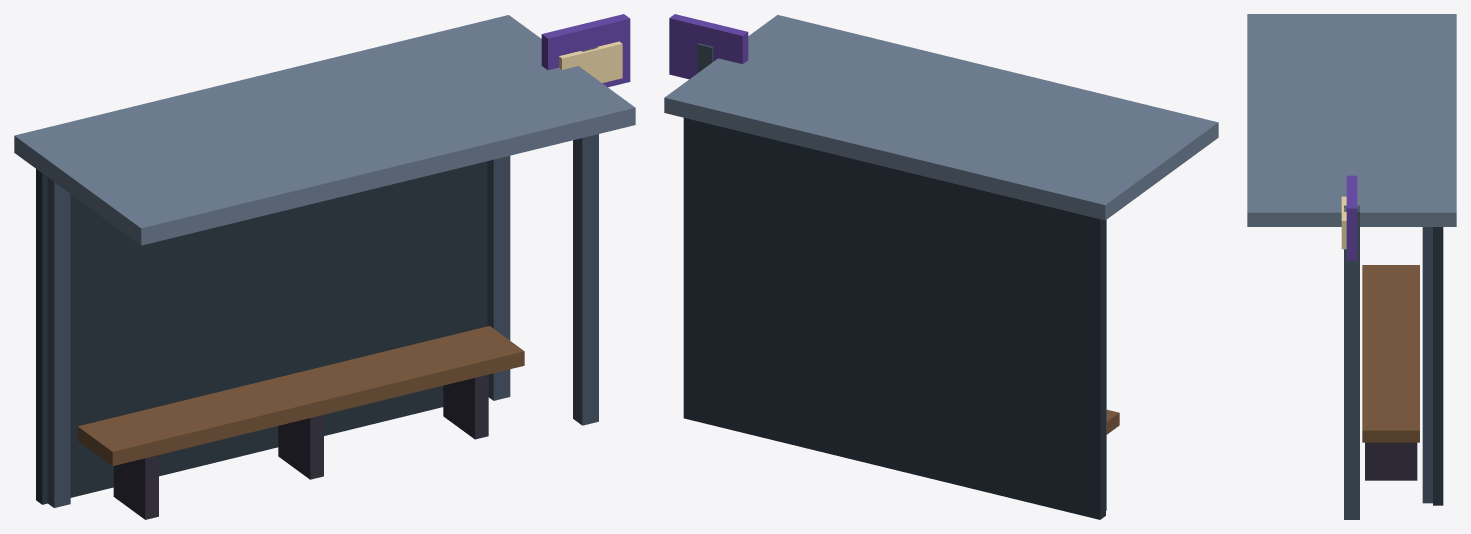
File: bus_stop.obj
The picture shows the model from 3 angles, left to right: view 1: azimuth 30°, elevation 25°; view 2: azimuth 150°, elevation 25°; view 3: azimuth 270°, elevation 25°; orthographic projection. The views are drawn at different scales.
Visible parts, largest first — view 1: bus_stop; view 2: bus_stop; view 3: bus_stop.
Part boxes in pixels (x1,y1,x2,y2): bus_stop: [14, 14, 635, 519]; bus_stop: [664, 14, 1218, 519]; bus_stop: [1247, 14, 1456, 519].
Bounding box in the file's own units: 4 × 2.74 × 1.6.
